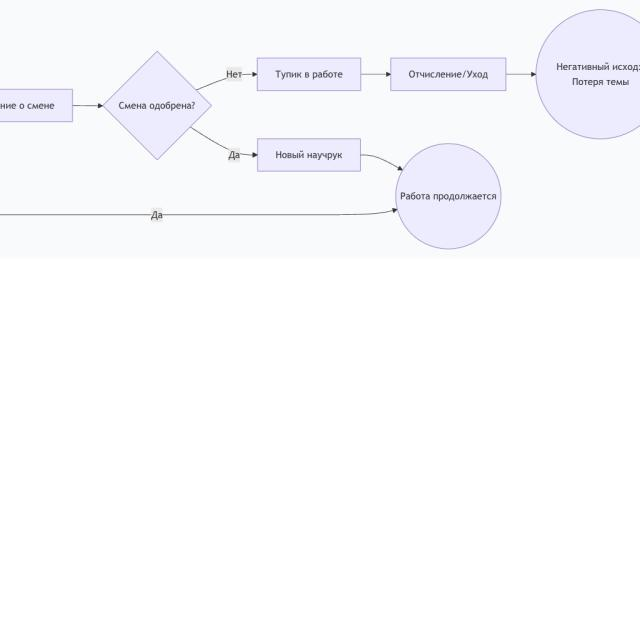arrow: (13, 207, 398, 218), (190, 127, 258, 161), (196, 72, 257, 90), (361, 150, 403, 172), (71, 102, 104, 110), (506, 70, 536, 78), (361, 71, 391, 77)
circle: (396, 145, 504, 249)
diamond: (104, 52, 211, 159)
rectangle: (391, 58, 506, 91), (257, 58, 361, 91), (257, 139, 360, 171)
text_region: (148, 206, 164, 223), (226, 66, 242, 81), (226, 148, 242, 162)
